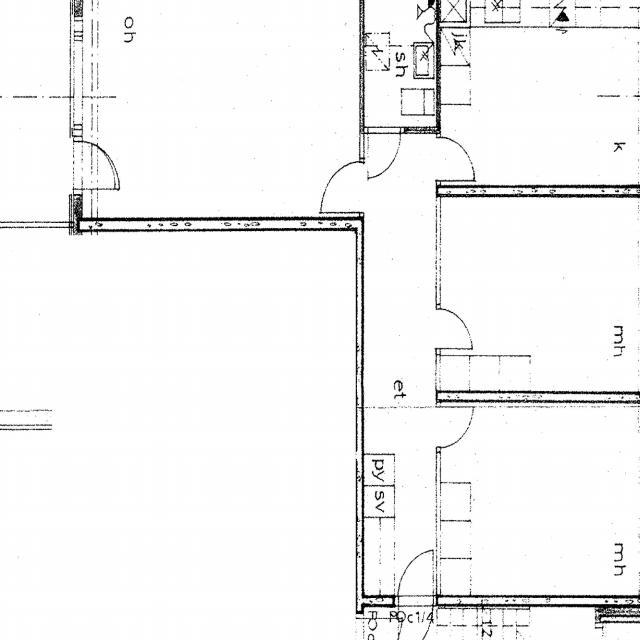door: (320, 161, 363, 213), (74, 141, 120, 188), (398, 550, 433, 606), (436, 136, 474, 180), (398, 595, 433, 640), (368, 126, 400, 174), (436, 407, 472, 448), (436, 307, 472, 348)
